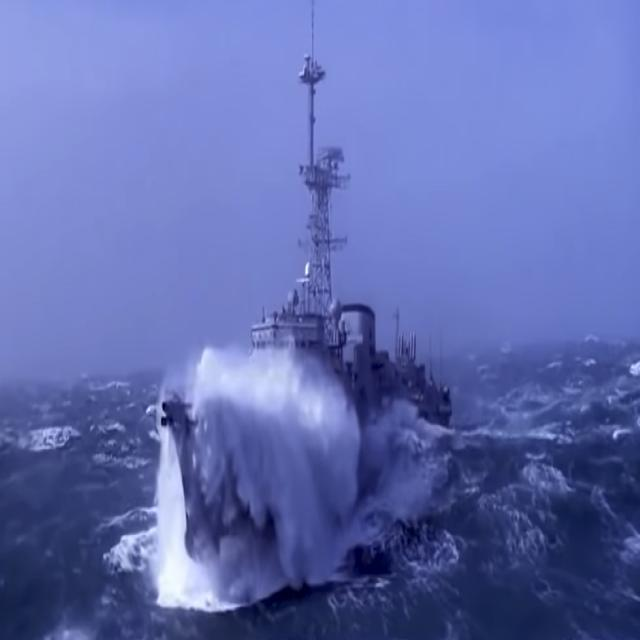navalvessels: (170, 1, 458, 566)
